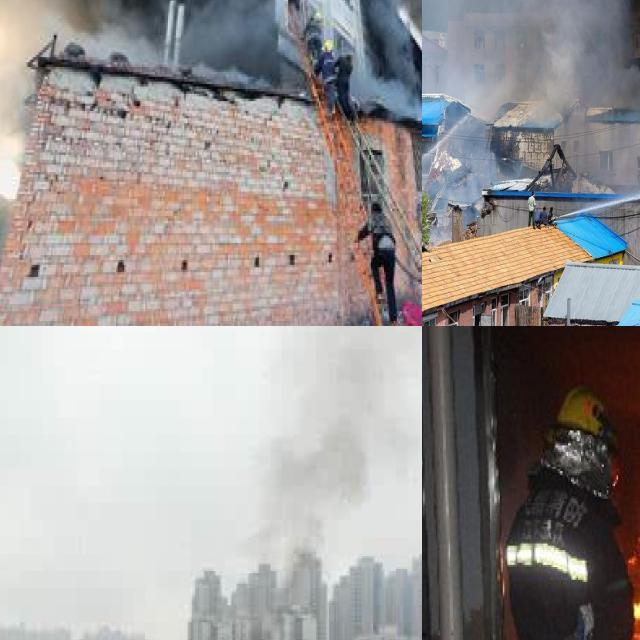smoke: (0, 0, 422, 130), (422, 0, 640, 181), (261, 326, 414, 547)
